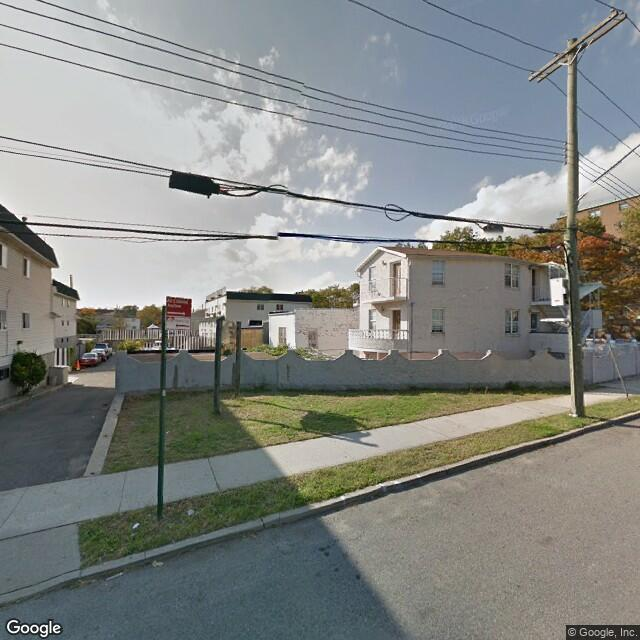litter: (187, 508, 196, 515), (108, 573, 123, 577), (151, 560, 162, 565), (130, 523, 139, 529), (570, 412, 578, 417), (166, 429, 170, 434)
